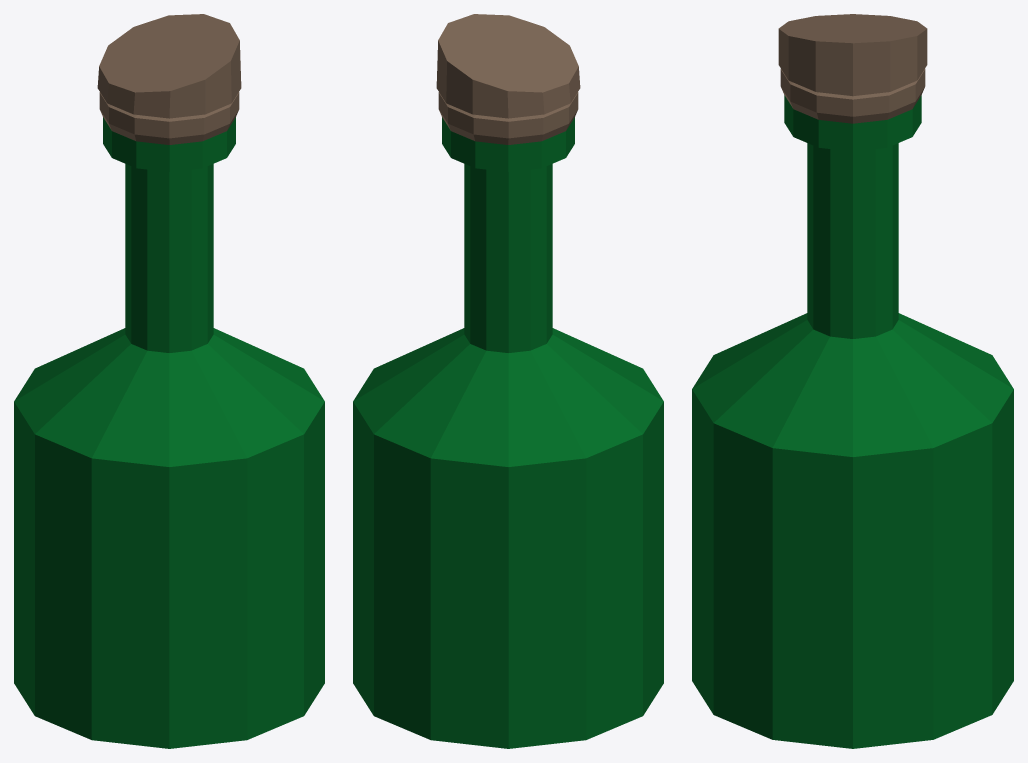
The model's file is Medicine_bottle_1.fbx.
3 views of the same model, side by side, from view 1: azimuth 30°, elevation 25°; view 2: azimuth 150°, elevation 25°; view 3: azimuth 270°, elevation 25° (orthographic). The views are drawn at different scales.
Parts seen in each view (by area): view 1: Medicine_bottle_1; view 2: Medicine_bottle_1; view 3: Medicine_bottle_1.
Boxes of the visible parts, bbox=[...] form: Medicine_bottle_1: bbox=[14, 14, 324, 748]; Medicine_bottle_1: bbox=[353, 14, 663, 748]; Medicine_bottle_1: bbox=[692, 14, 1013, 748].
Bounding box in the file's own units: 19.31 × 19.31 × 44.24.
